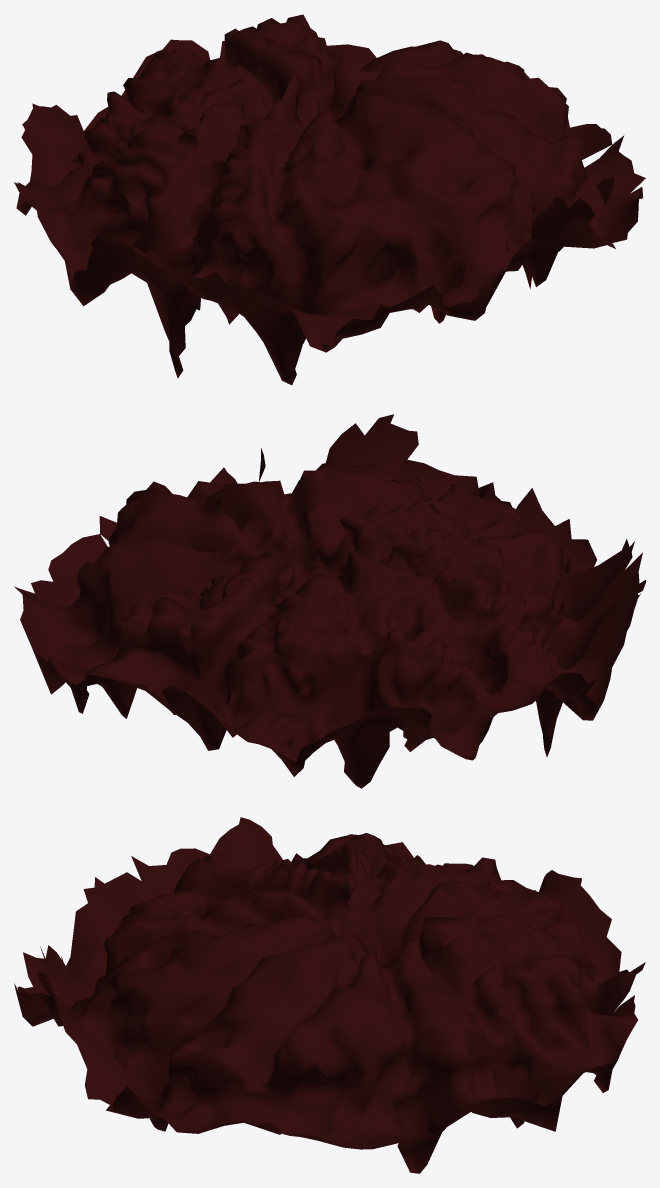
Rendered from FleshCeiling.fbx.
3 views of the same model, one above another, from view 1: azimuth 30°, elevation 25°; view 2: azimuth 150°, elevation 25°; view 3: azimuth 270°, elevation 25° (orthographic).
Visible parts, largest first — view 1: CeilingLow; view 2: CeilingLow; view 3: CeilingLow.
Boxes of the visible parts, left/top/right/bottom form: CeilingLow: left=14, top=14, right=645, bottom=385; CeilingLow: left=14, top=414, right=645, bottom=788; CeilingLow: left=14, top=817, right=645, bottom=1173.
Bounding box in the file's own units: 18286 × 7613 × 18066.
